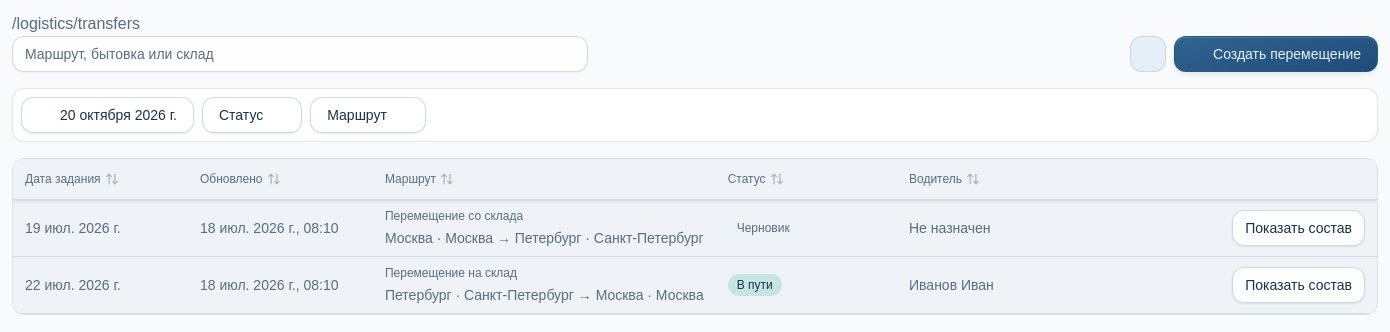
Test case: WarehouseTransfersPage › filters transfers by a readable route
Step 1. Type "Петербург → Москва" into the field named "Поиск по маршруту" → (300, 54), box [12,36,588,72]
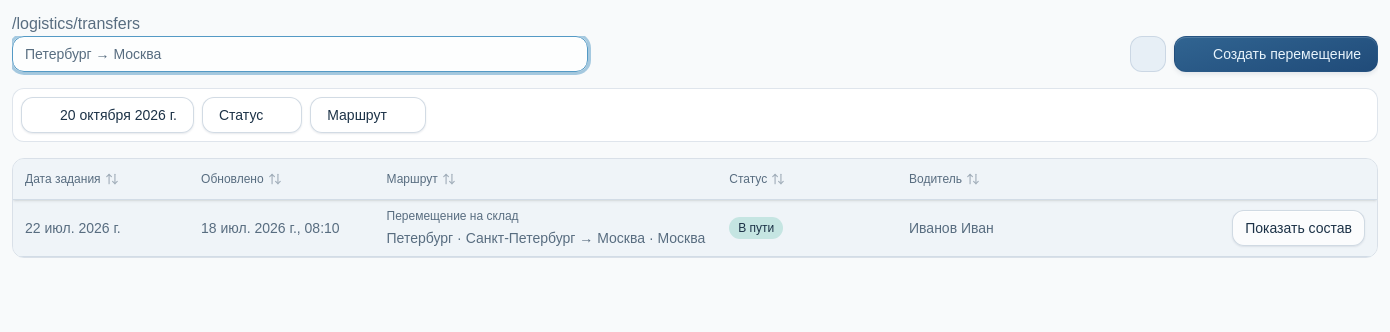
Expected: the text "Петербург · Санкт-Петербург → Москва · Москва" is shown, [386,228,705,248]
Expected: the text "Москва · Москва → Петербург · Санкт-Петербург" is gone
Step 2. Clear the field named "Поиск по маршруту" → (300, 54), box [12,36,588,72]
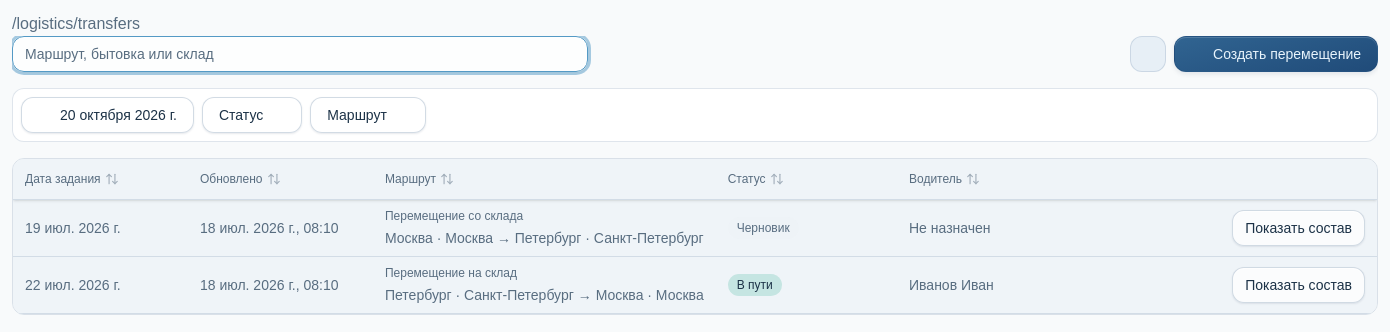
Expected: the text "Петербург · Санкт-Петербург → Москва · Москва" is shown, [385,285,704,305]
Expected: the text "Москва · Москва → Петербург · Санкт-Петербург" is shown, [385,228,704,248]
